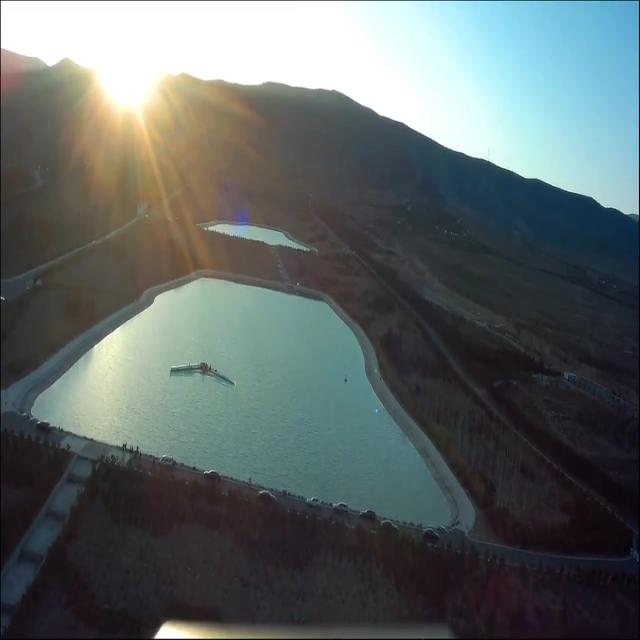iha: (196, 360, 198, 392)
